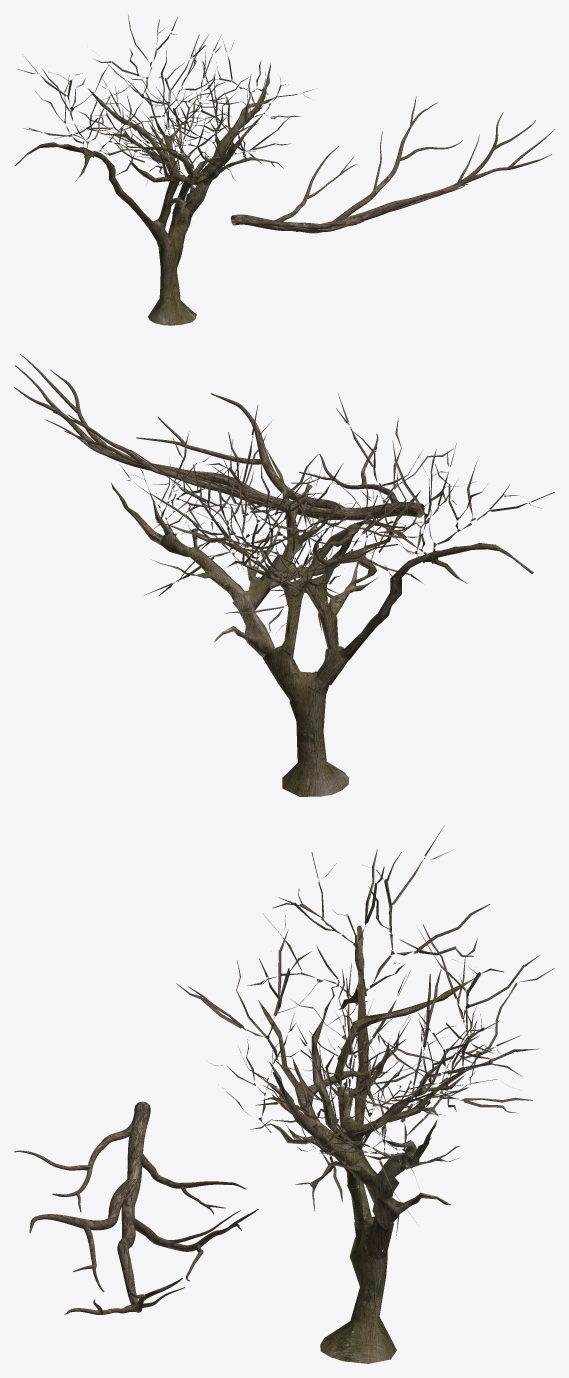
File: oak_tree_user_2.glb
The picture shows the model from 3 angles, top to bottom: view 1: azimuth 30°, elevation 25°; view 2: azimuth 150°, elevation 25°; view 3: azimuth 270°, elevation 25°; orthographic projection. The views are drawn at different scales.
Parts seen in each view (by area): view 1: Plane.022_Oakbaeumle_0, BezierCurve; view 2: Plane.022_Oakbaeumle_0, BezierCurve; view 3: Plane.022_Oakbaeumle_0, BezierCurve.
Boxes of the visible parts, x1,y1,x2,y2 form: Plane.022_Oakbaeumle_0: (14, 14, 313, 325); BezierCurve: (230, 96, 554, 233); Plane.022_Oakbaeumle_0: (111, 393, 554, 796); BezierCurve: (14, 354, 424, 520); Plane.022_Oakbaeumle_0: (176, 825, 554, 1363); BezierCurve: (14, 1101, 258, 1314).
Bounding box in the file's own units: 26.56 × 15.72 × 17.32.
3 materials, 3 textured.
